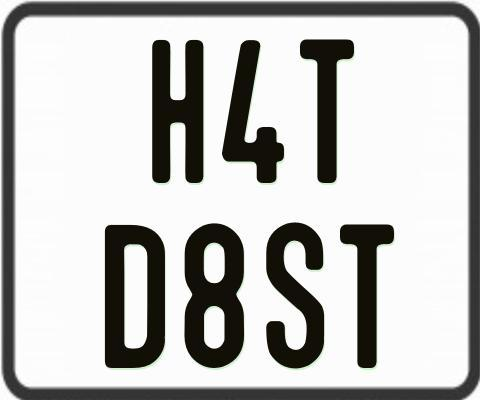4: (221, 37, 285, 183)
8: (182, 222, 242, 373)
D: (102, 222, 166, 366)
H: (150, 39, 207, 188)
S: (264, 223, 325, 374)
T: (340, 225, 398, 372), (300, 40, 357, 187)
